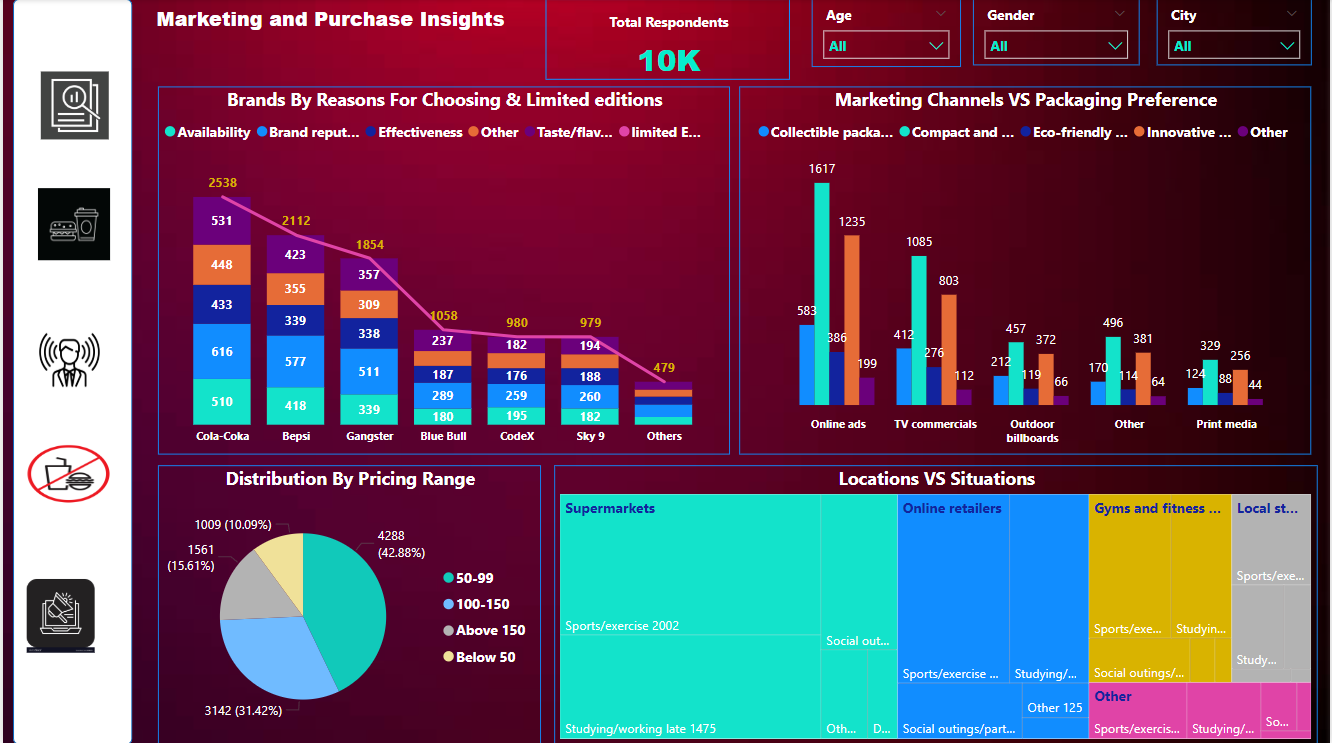

Layout of this report page (visuals, bound fields, positions):
{"tool":"powerbi","page":{"name":"Marketing And Purchase Insights","canvas":[1280,720],"ordinal":4},"visuals":[{"type":"shape","box":[10,0,115.2,719.6],"z":0},{"type":"image","box":[29.9,310,68.3,76.8],"z":1000},{"type":"image","box":[15.6,423.8,95.3,69.7],"z":2000},{"type":"image","box":[15.6,65.4,106.7,75.4],"z":3000},{"type":"image","box":[12.8,554.7,85.3,81.1],"z":4000},{"type":"image","box":[28.4,176.4,79.6,82.5],"z":5000},{"type":"textbox","box":[125.2,0,381.2,65.4],"z":6000},{"type":"slicer","fields":{"Values":["dim_repondents.Age"]},"box":[780.8,0,143.6,65.4],"z":7000},{"type":"slicer","fields":{"Values":["dim_repondents.Gender"]},"box":[935.8,0,160.7,64],"z":8000},{"type":"slicer","fields":{"Values":["dim_cities.City"]},"box":[1113.6,0,149.3,64],"z":9000},{"type":"lineStackedColumnComboChart","title":"Brands By Reasons For Choosing &  Limited editions","fields":{"Category":["fact_survey_responses.Current_brands"],"Y":["CountNonNull(fact_survey_responses.Current_brands)"],"Series":["fact_survey_responses.Reasons_for_choosing_brands"],"Y2":["CountNonNull(fact_survey_responses.Limited_edition_packaging)"]},"box":[149.3,83.9,551.8,355.6],"z":10000},{"type":"pieChart","title":"Distribution By Pricing Range","fields":{"Category":["fact_survey_responses.Price_range"],"Y":["CountNonNull(fact_survey_responses.Price_range)"]},"box":[149.3,449.4,369.8,270.2],"z":11000},{"type":"clusteredColumnChart","title":"Marketing Channels VS  Packaging Preference","fields":{"Category":["fact_survey_responses.Marketing_channels"],"Y":["CountNonNull(fact_survey_responses.Marketing_channels)"],"Series":["fact_survey_responses.Packaging_preference"]},"box":[711.1,83.9,551.8,355.6],"z":12000},{"type":"treemap","title":"Locations VS Situations","fields":{"Group":["fact_survey_responses.Purchase_location"],"Values":["CountNonNull(fact_survey_responses.Purchase_location)"],"Details":["fact_survey_responses.Typical_consumption_situations"]},"box":[531.9,449.4,736.7,270.2],"z":13000},{"type":"cardVisual","fields":{"Data":["dim_repondents.Total Respondents"]},"box":[519.1,0,246,83.9],"z":14000}]}

Visuals, with their boxes in screenshot pixels (x1, y1, x2, y2), scaled from the page's 1280x720 canvas onto the 1332x743 screenshot:
shape: (left=10, top=0, right=130, bottom=742)
image: (left=31, top=320, right=102, bottom=399)
image: (left=16, top=437, right=115, bottom=509)
image: (left=16, top=67, right=127, bottom=145)
image: (left=13, top=572, right=102, bottom=656)
image: (left=30, top=182, right=112, bottom=267)
textbox: (left=130, top=0, right=527, bottom=67)
slicer - dim_repondents.Age: (left=813, top=0, right=962, bottom=67)
slicer - dim_repondents.Gender: (left=974, top=0, right=1141, bottom=66)
slicer - dim_cities.City: (left=1159, top=0, right=1314, bottom=66)
"Brands By Reasons For Choosing &  Limited editions" lineStackedColumnComboChart: (left=155, top=87, right=730, bottom=454)
"Distribution By Pricing Range" pieChart: (left=155, top=464, right=540, bottom=742)
"Marketing Channels VS  Packaging Preference" clusteredColumnChart: (left=740, top=87, right=1314, bottom=454)
"Locations VS Situations" treemap: (left=554, top=464, right=1320, bottom=742)
cardVisual - dim_repondents.Total Respondents: (left=540, top=0, right=796, bottom=87)
